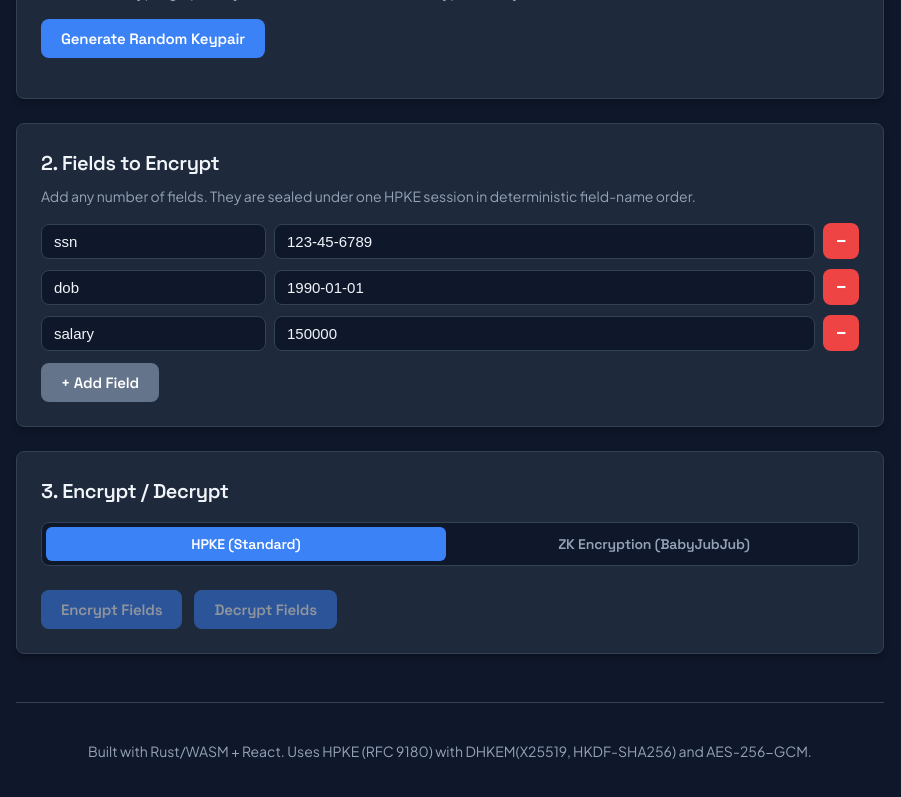
Test: React KEM-DEM Demo Application › supports ZK BabyJubJub authenticated encrypt/decrypt roundtrip
(page scrolled)
Switch algorithm to ZK
Click the button "ZK Encryption (BabyJubJub)": coordinates (654, 544) 454,527 -> 854,561
(page scrolled)
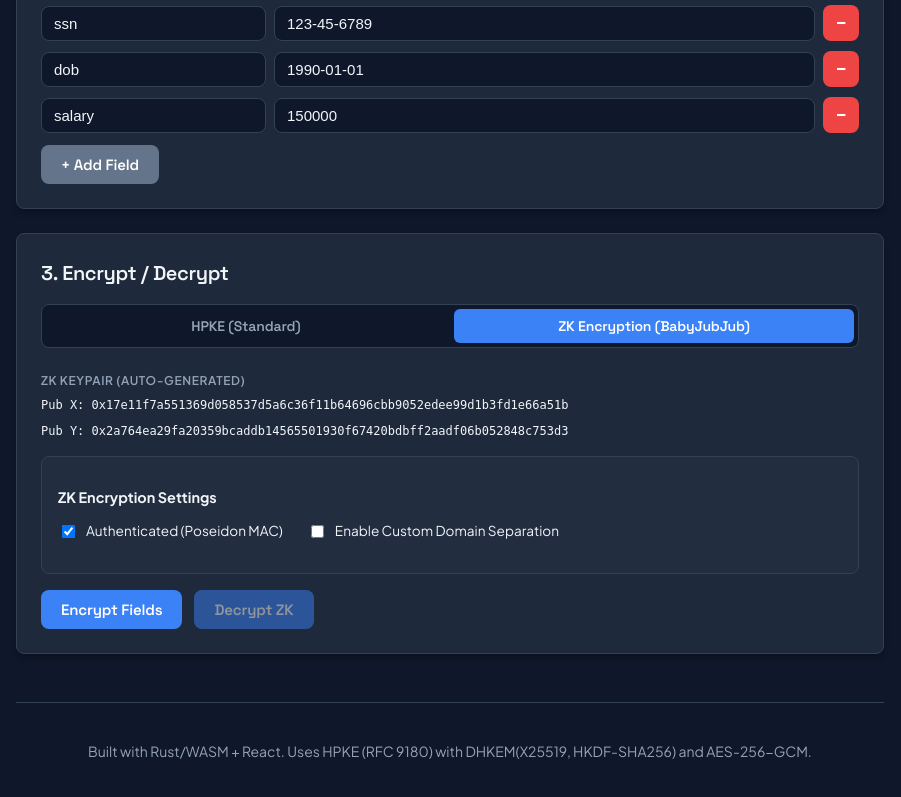
Check: the text "ZK Keypair (auto-generated)" is shown, box 41,373 -> 245,388
Click encrypt
Click the button "Encrypt Fields": coordinates (112, 610) 41,590 -> 182,629
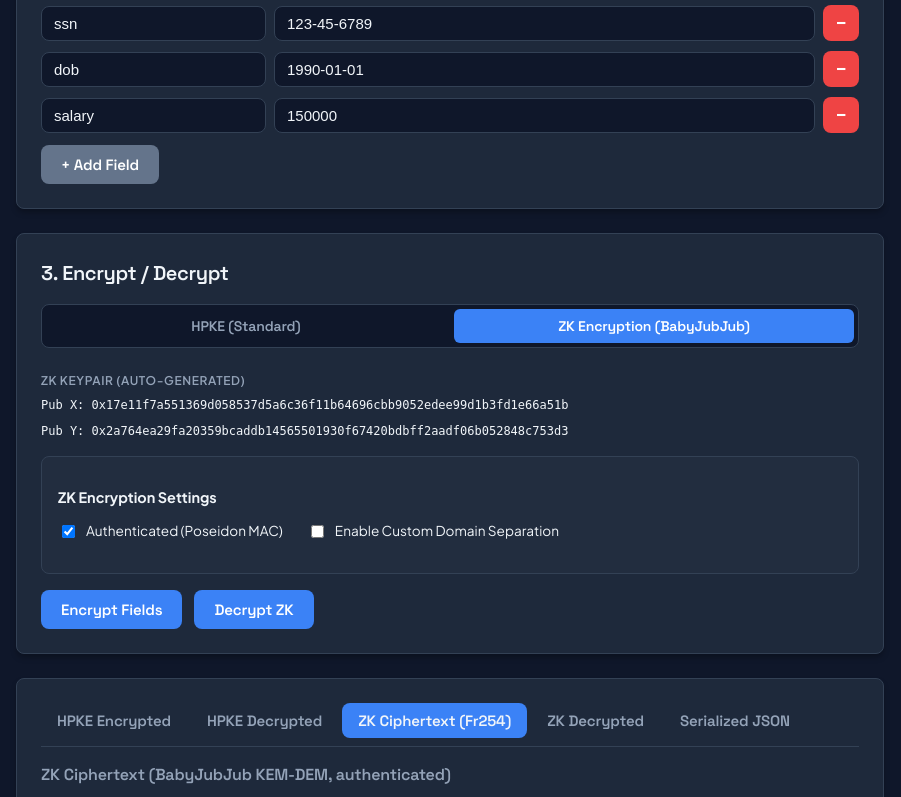
Check: the heading "ZK Ciphertext (BabyJubJub KEM-DEM, authenticated)" is shown, box 41,764 -> 451,785
Click decrypt
Click the button "Decrypt ZK": coordinates (254, 610) 194,590 -> 314,629
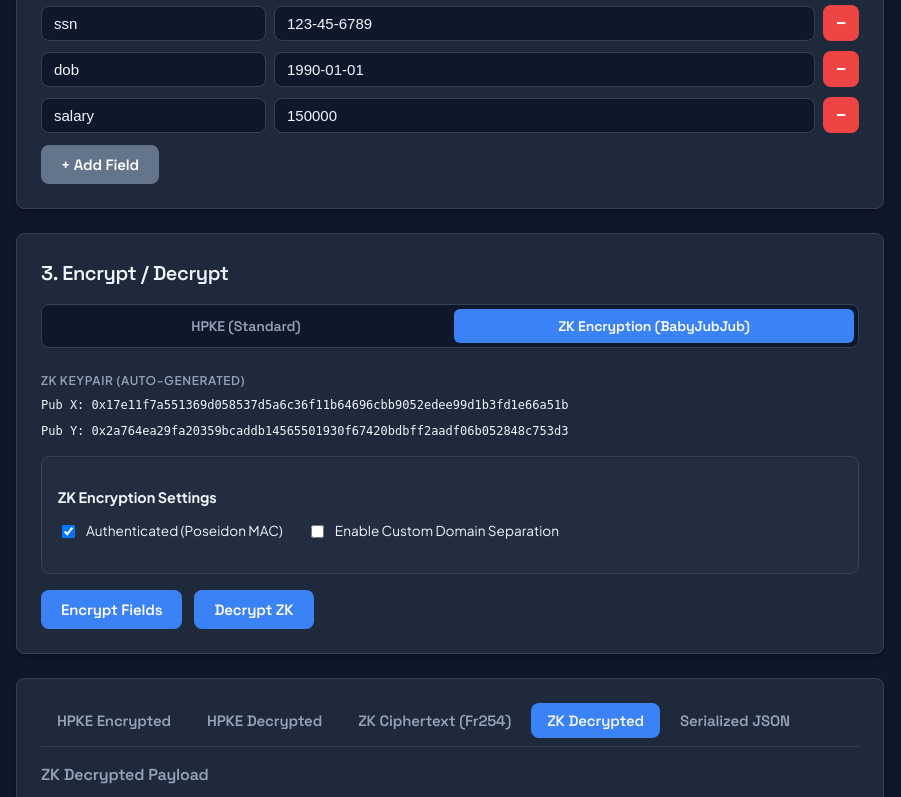
Check: the heading "ZK Decrypted Payload" is shown, box 41,764 -> 209,785
